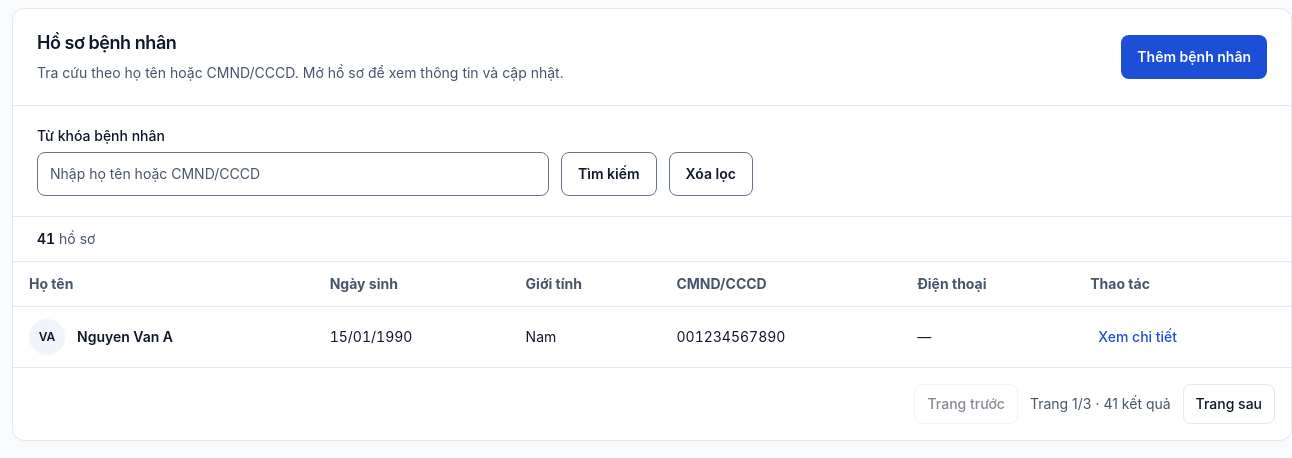
Scenario: PatientTable read logic › ignores late results from an older search request
This screenshot has width=1292, height=458.
Expected: the link with aria-label "Xem chi tiết Nguyen Van A" is shown, [1098,328,1177,345]
Type "older" into the search field labelled "Từ khóa bệnh nhân".
click(293, 174); type("older")  # box [37,152,549,196]
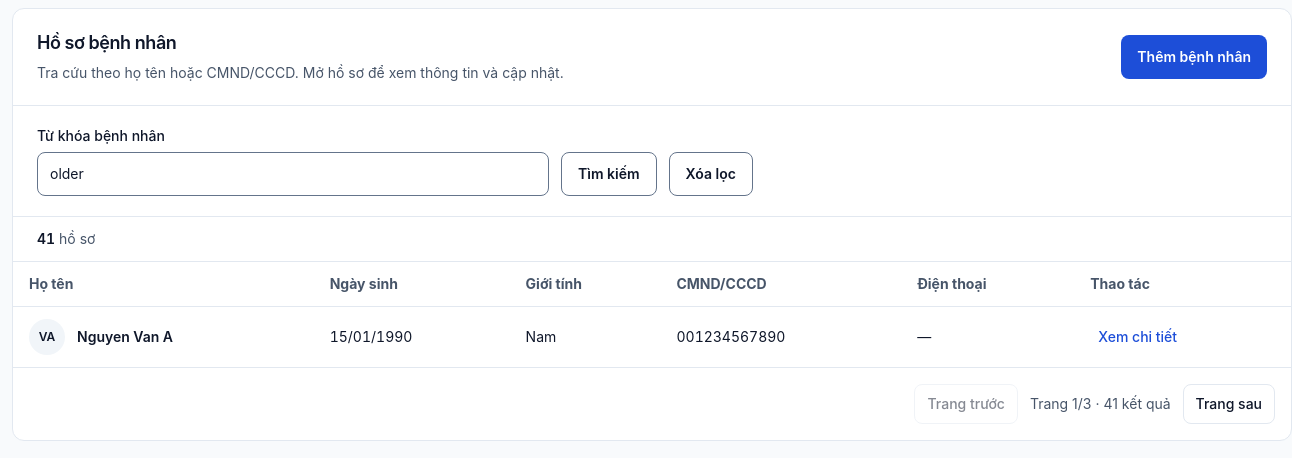
Submit the form labelled "Từ khóa bệnh nhân", box [13,105,1291,216]
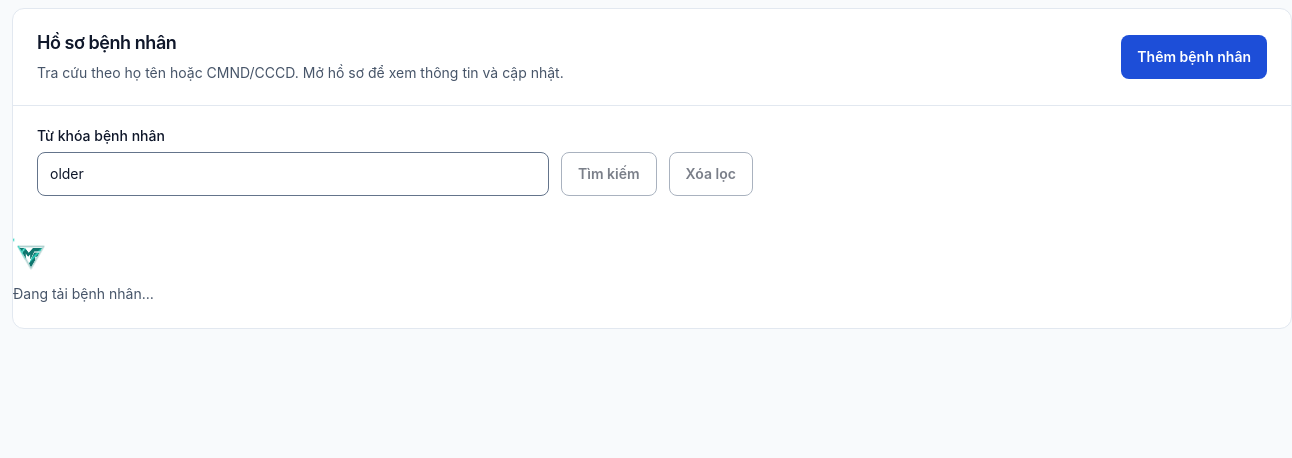
Replace the text in the search field labelled "Từ khóa bệnh nhân" with "newer" at (293, 174), box [37,152,549,196]
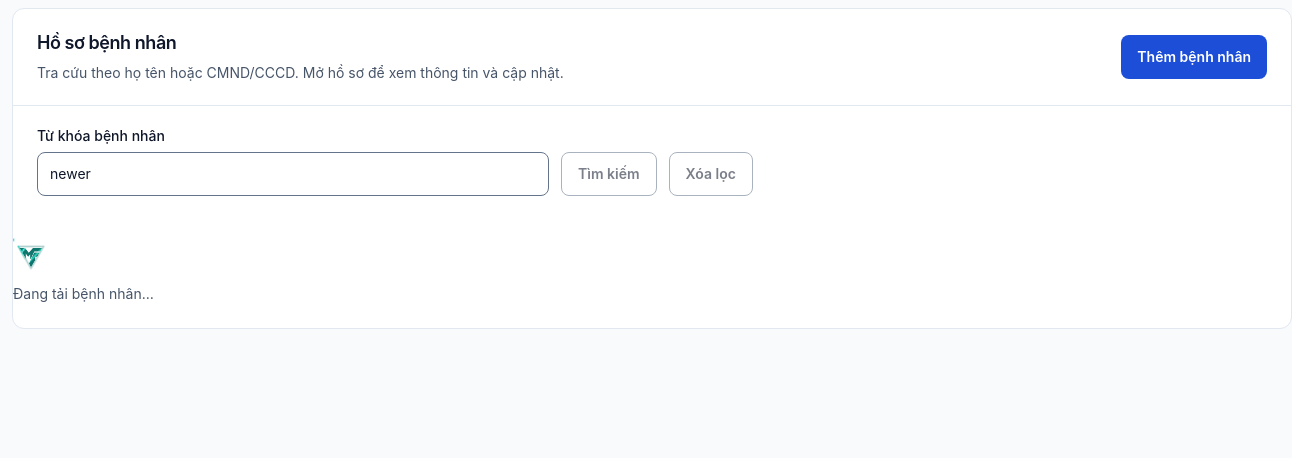
Submit the form labelled "Từ khóa bệnh nhân", box [13,105,1291,216]
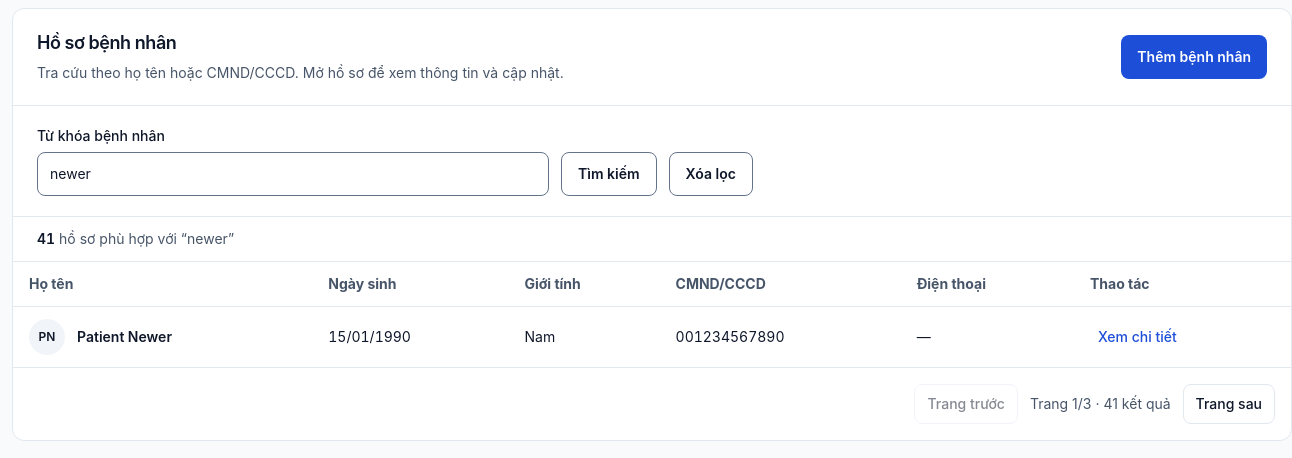
Now the link with aria-label "Xem chi tiết Patient Newer" is shown, box [1098,328,1177,345]
